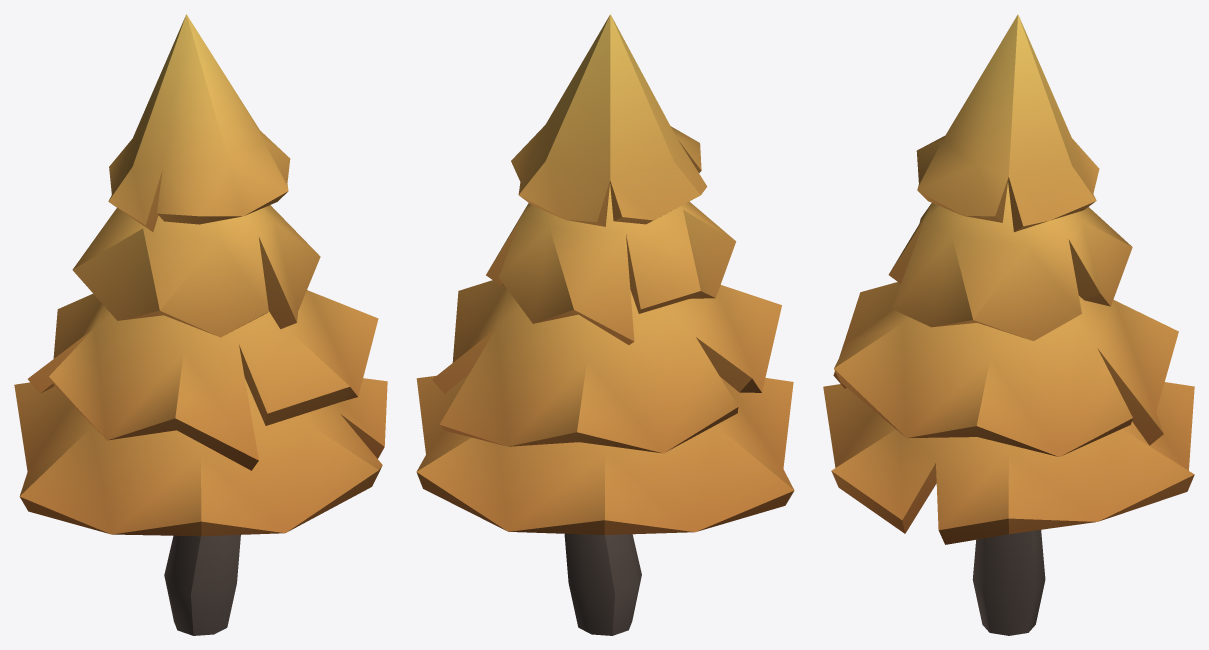
File: tree_pine_yellow_large.glb
The picture shows the model from 3 angles, left to right: view 1: azimuth 30°, elevation 25°; view 2: azimuth 150°, elevation 25°; view 3: azimuth 270°, elevation 25°; orthographic projection.
Parts seen in each view (by area): view 1: tree_pine_yellow_large; view 2: tree_pine_yellow_large; view 3: tree_pine_yellow_large.
Boxes of the visible parts, x1,y1,x2,y2 form: tree_pine_yellow_large: [14, 14, 387, 635]; tree_pine_yellow_large: [416, 14, 794, 635]; tree_pine_yellow_large: [823, 14, 1194, 635].
Size of the model in its own units: 4.76 by 7.48 by 4.15.
Materials: 1 (1 with a texture image).
